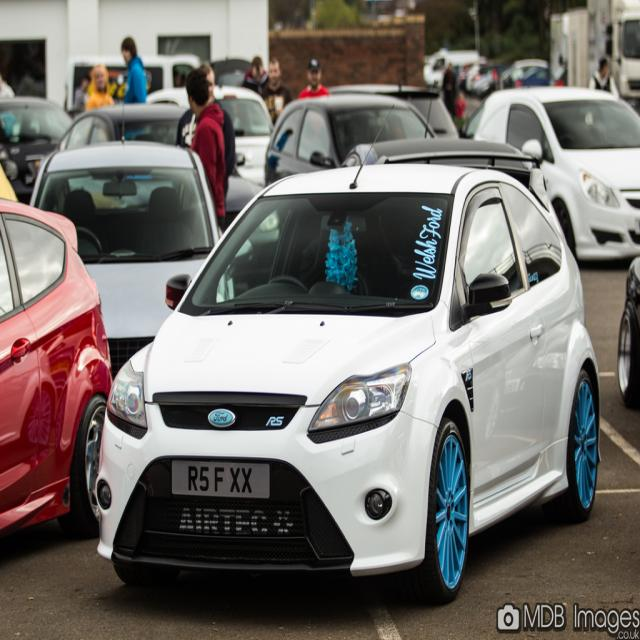car: (93, 107, 602, 604)
